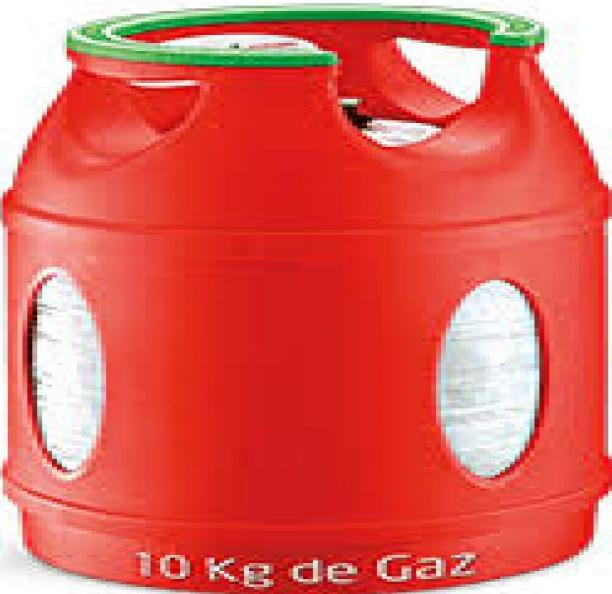cylinder: (1, 0, 612, 594)
